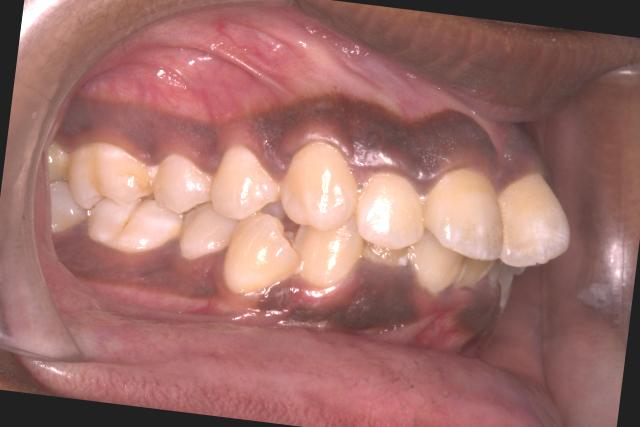canine class II 1/2: (218, 117, 376, 318)
molar class III 1/4: (52, 134, 192, 262)
